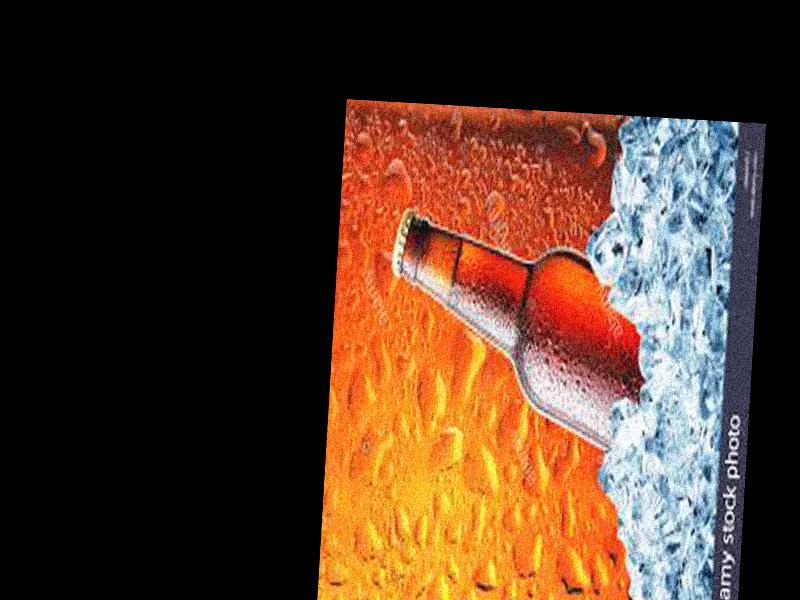Beer: (381, 195, 656, 449)
